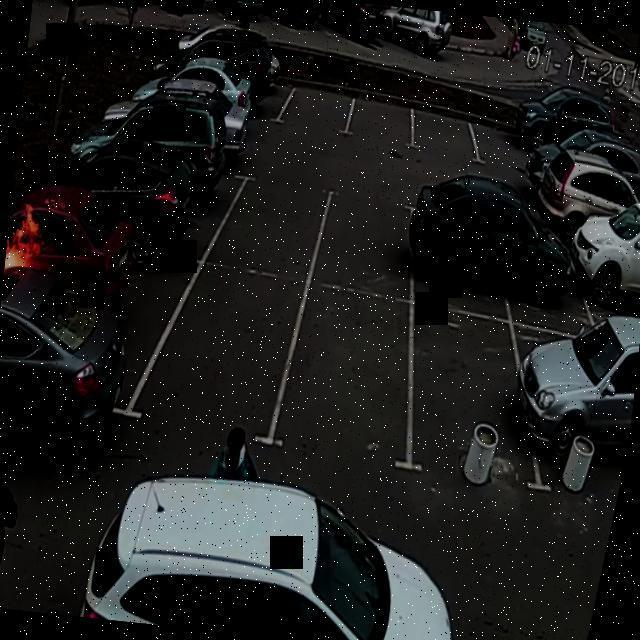car: (389, 283, 554, 508), (30, 220, 180, 414), (507, 317, 640, 525), (405, 189, 517, 317), (112, 142, 234, 258), (500, 202, 594, 318), (211, 54, 288, 130), (470, 106, 542, 175)
free: (140, 250, 302, 458), (274, 278, 415, 466), (306, 176, 418, 309), (216, 167, 330, 282), (342, 83, 418, 155), (401, 100, 480, 166), (276, 78, 354, 144)
